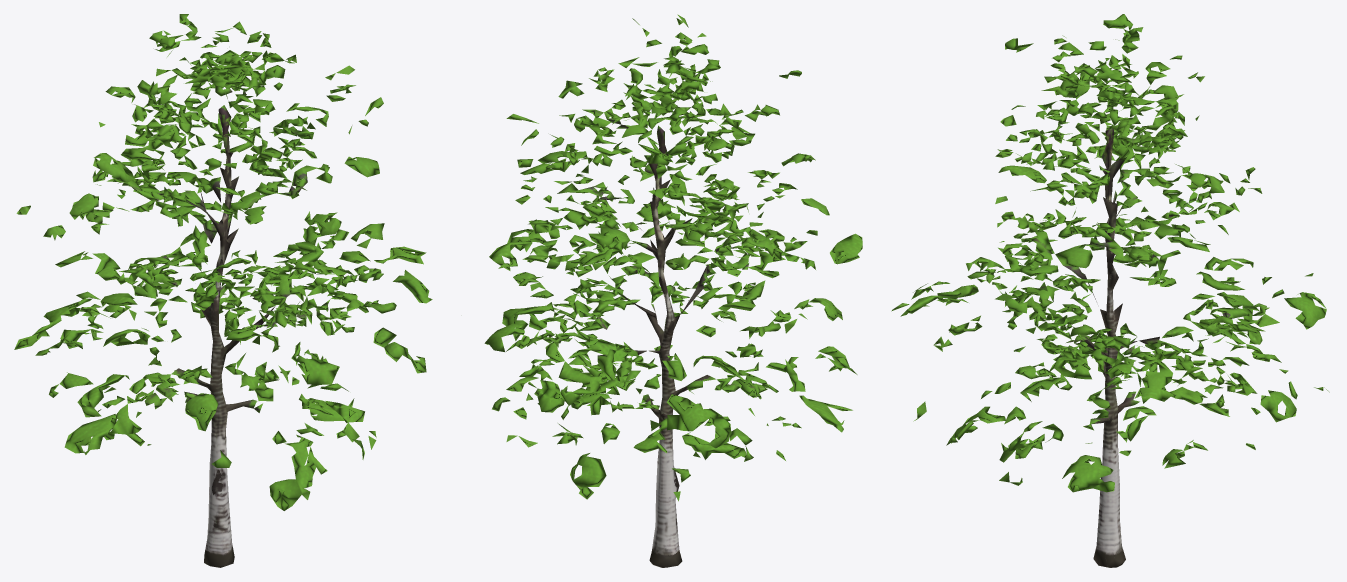
File: birch_s522.glb
3 views of the same model, side by side, from view 1: azimuth 30°, elevation 25°; view 2: azimuth 150°, elevation 25°; view 3: azimuth 270°, elevation 25° (orthographic). The views are drawn at different scales.
Visible parts, largest first — view 1: geometry_0; view 2: geometry_0; view 3: geometry_0.
Part boxes in pixels (x1,y1,x2,y2): geometry_0: (14, 14, 432, 567); geometry_0: (484, 14, 862, 567); geometry_0: (891, 14, 1329, 567).
Size of the model in its own units: 0.7086 by 0.9726 by 0.7308.
Materials: 1 (1 with a texture image).
